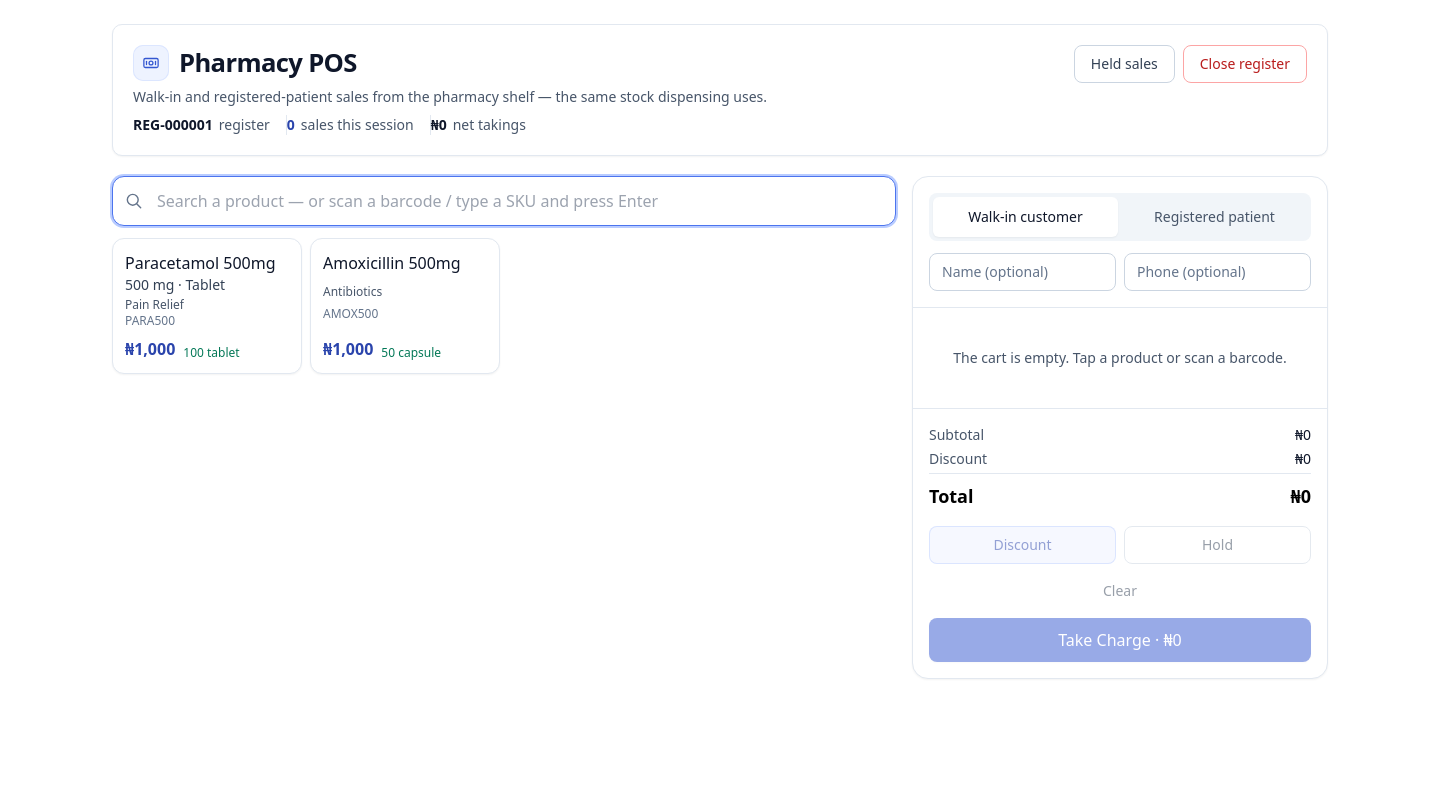
Scenario: discounting several selected items › discounts only the ticked lines
Click the button "Paracetamol 500mg".
click(207, 306)  # box [112,238,302,374]
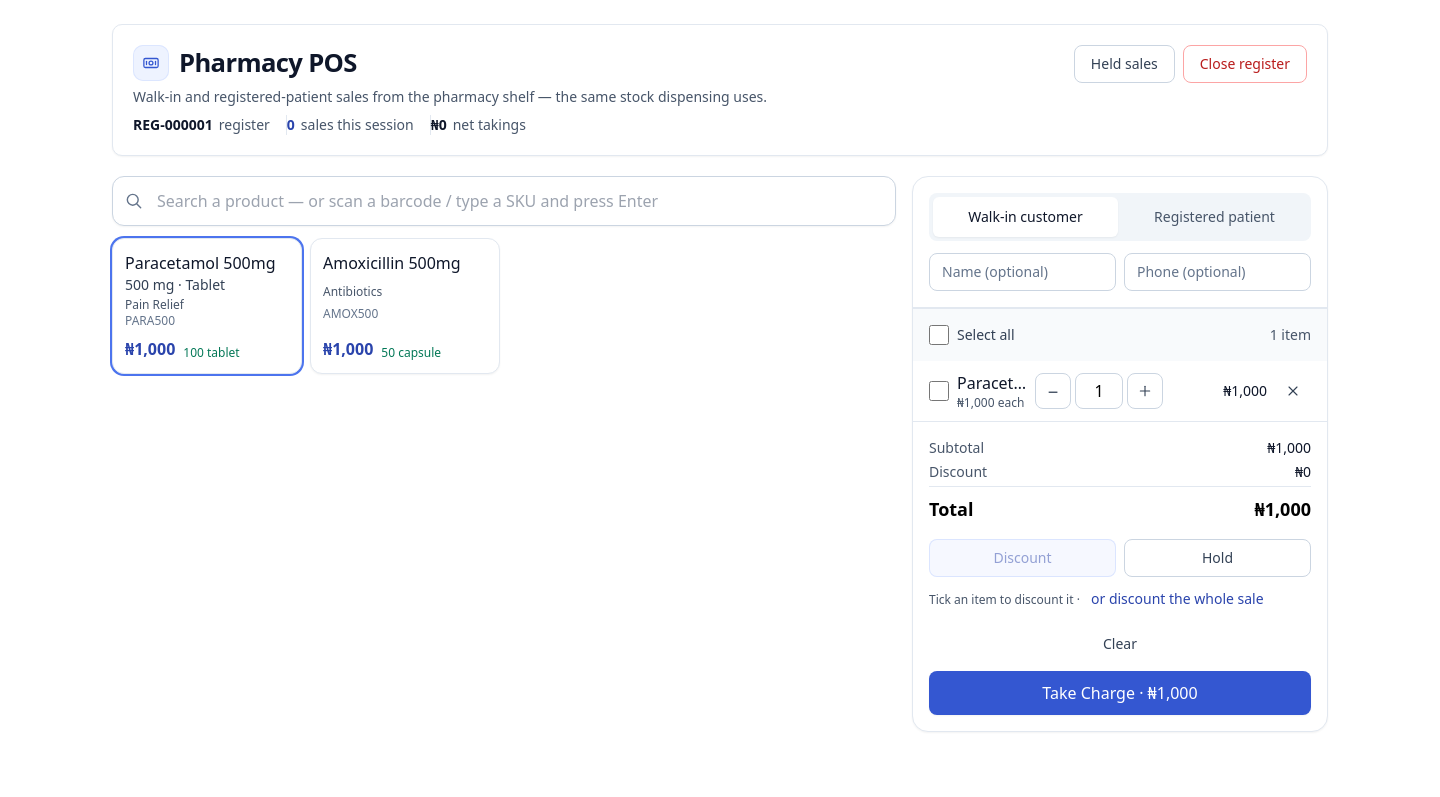
Click the button "Amoxicillin 500mg Antibiotics AMOX500 ₦1,000 50 capsule".
click(405, 306)  # box [310,238,500,374]
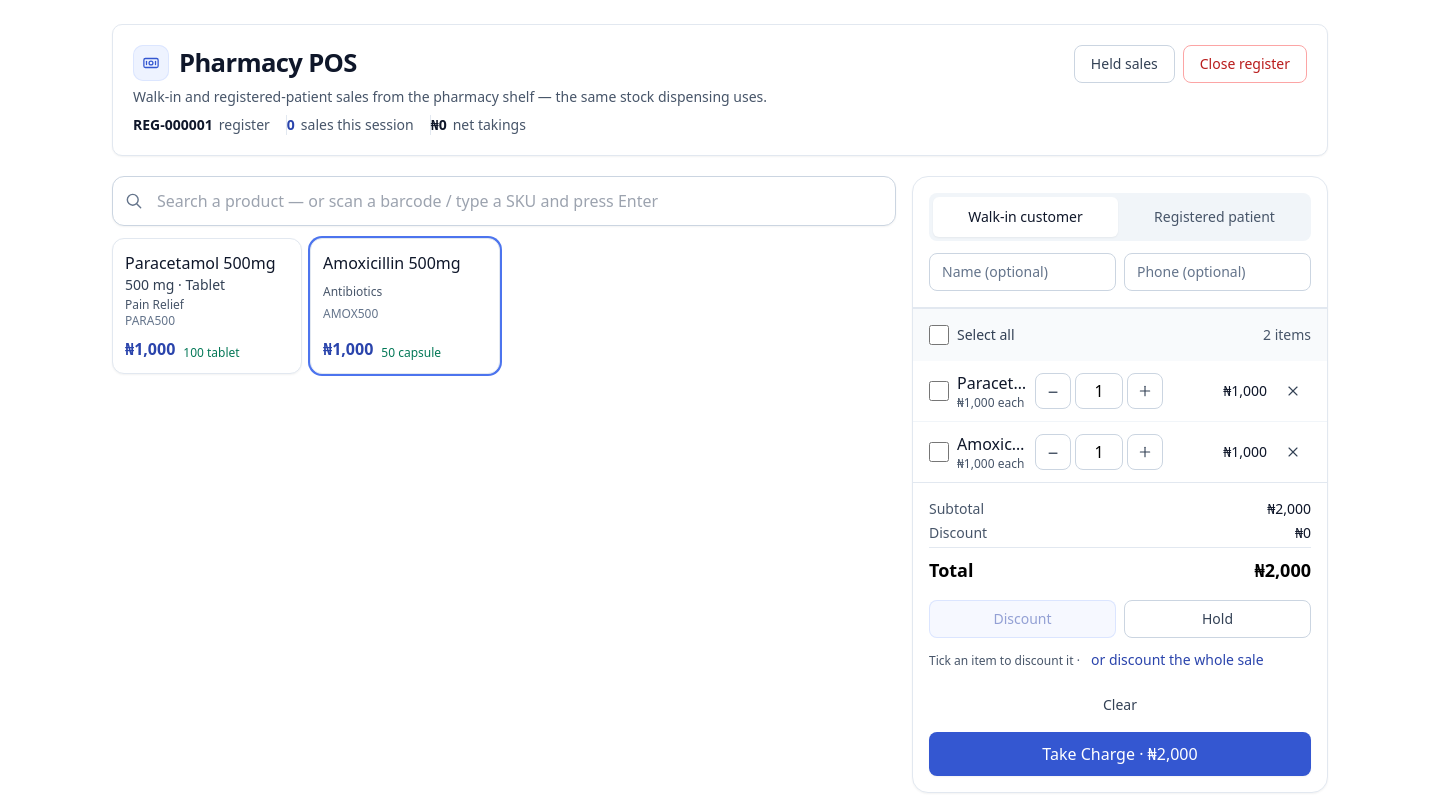
Click the checkbox named "Select Paracetamol 500mg".
click(939, 391)  # box [929,381,949,401]
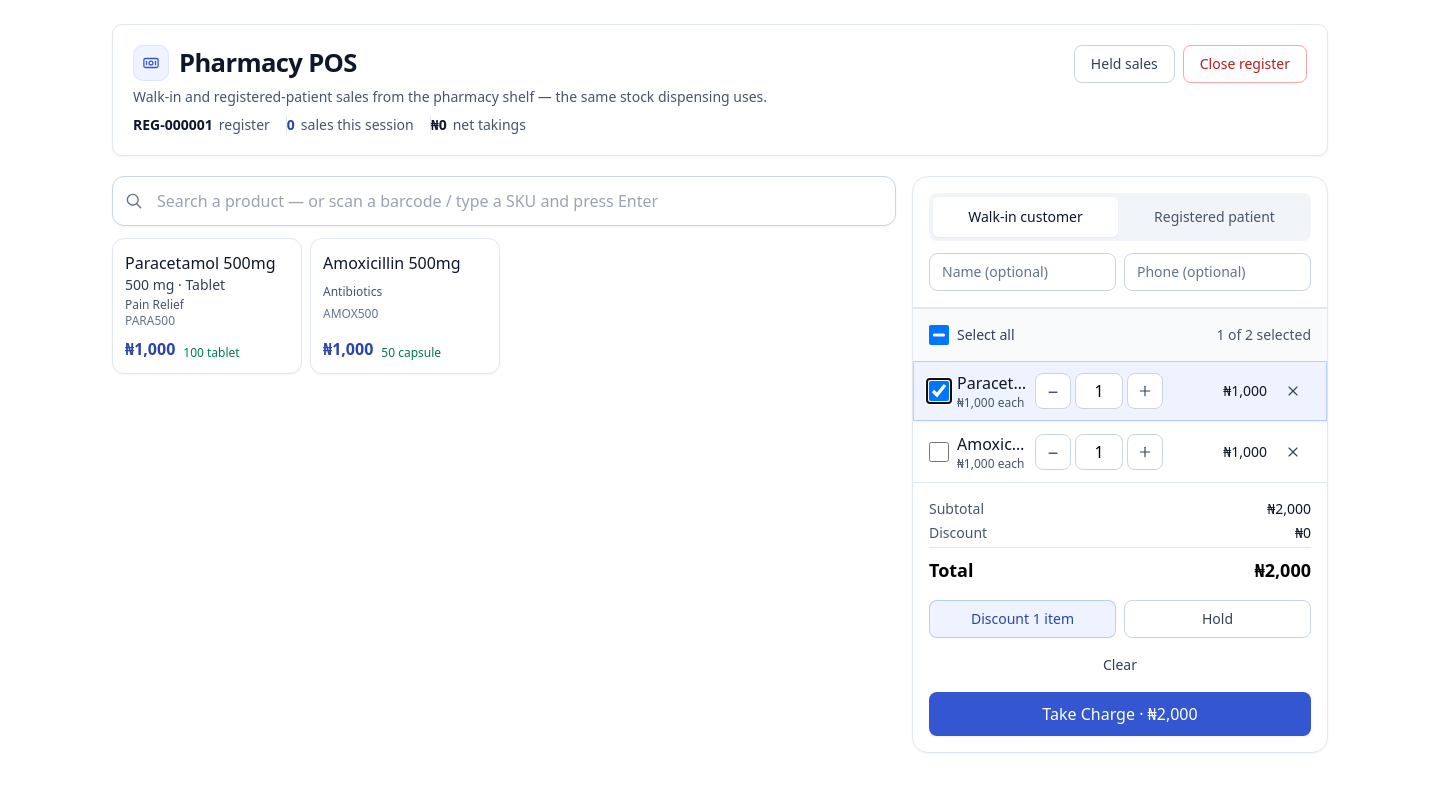
Click the button "Discount 1 item".
click(1022, 619)  # box [929,600,1116,638]
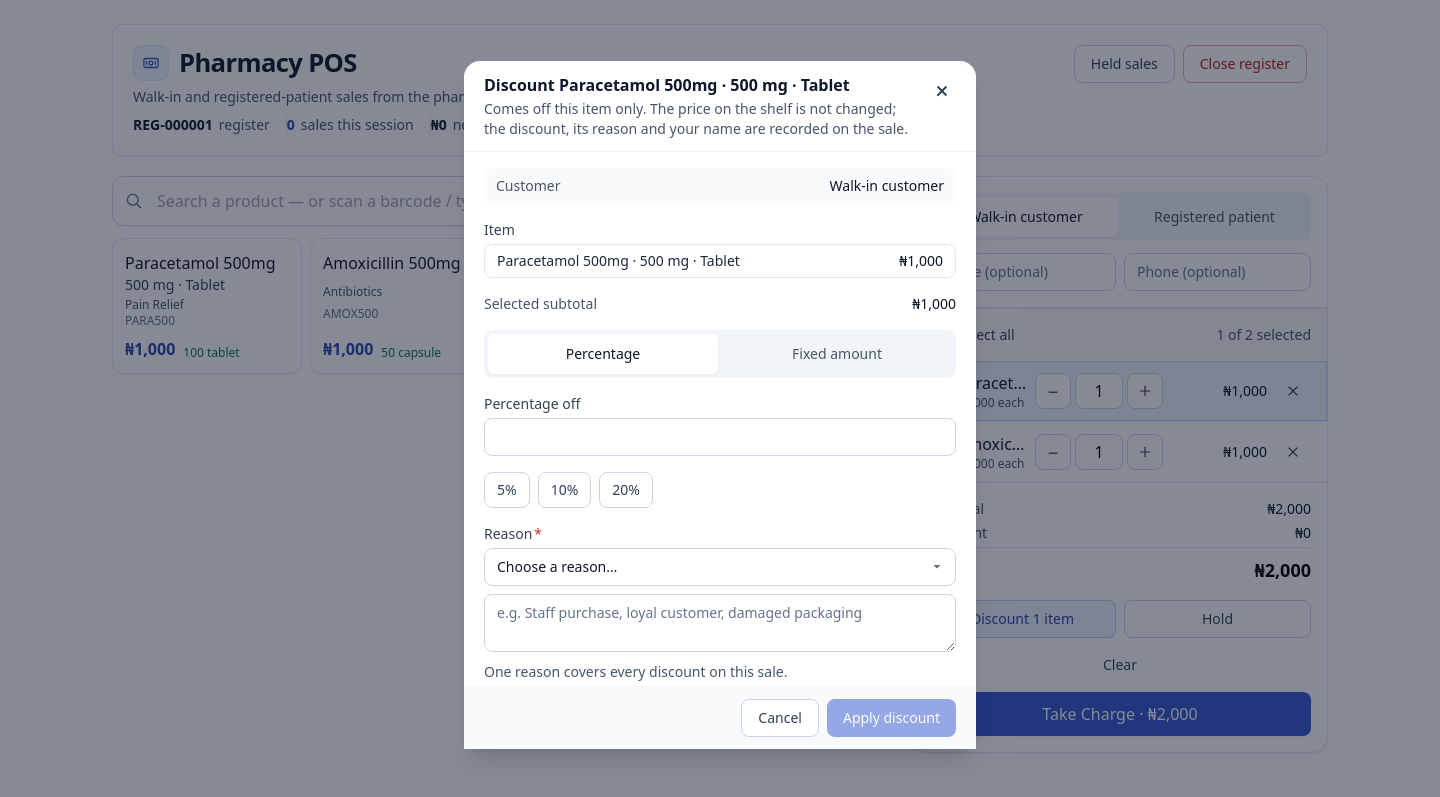
Type "10" into the number field labelled "Percentage off".
click(720, 437); type("10")  # box [484,418,956,456]
Type "Staff discount" into the text box with placeholder "e.g. Staff purchase, loyal customer, damaged packaging".
click(720, 623); type("Staff discount")  # box [484,594,956,652]
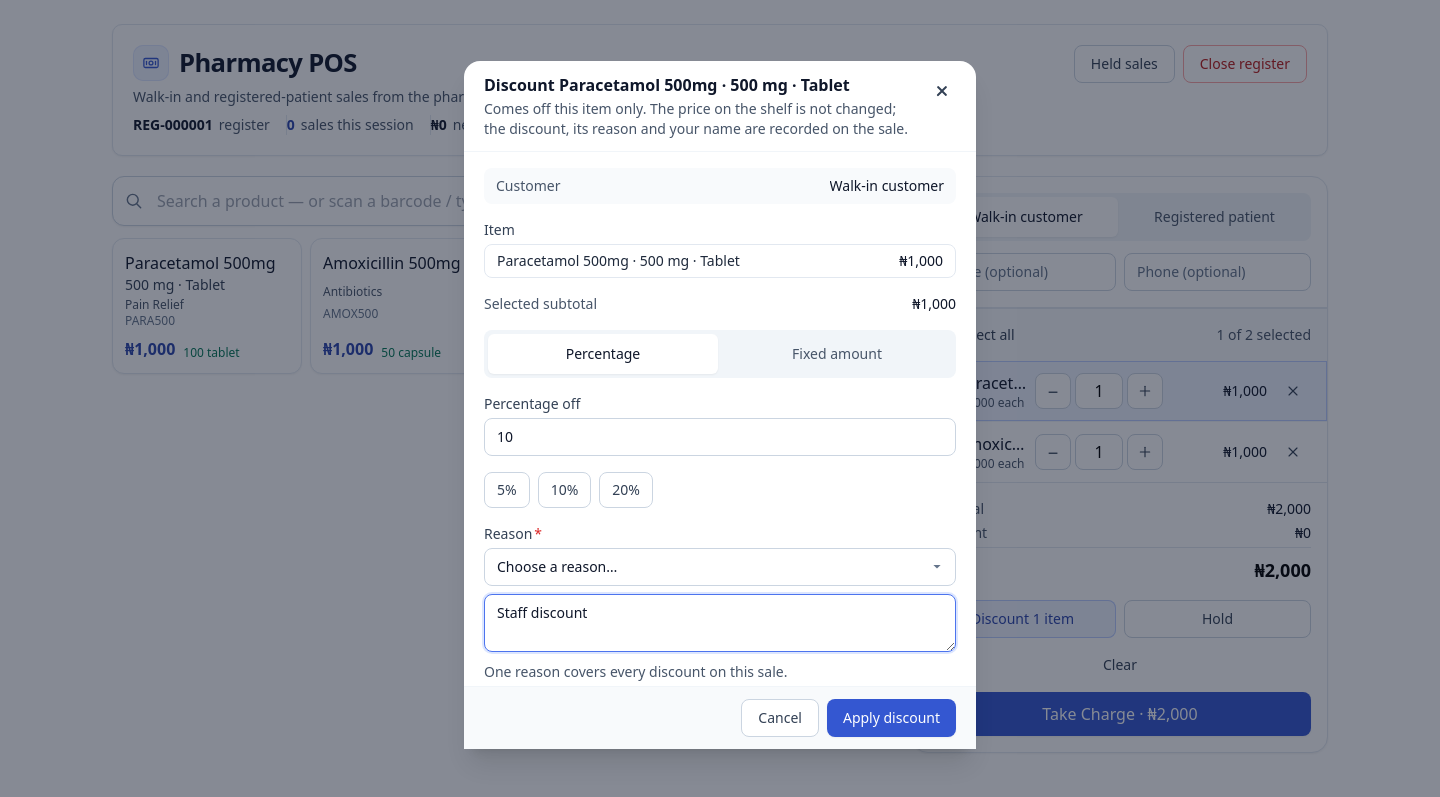
Click the button "Apply discount".
click(892, 718)  # box [827,699,956,737]
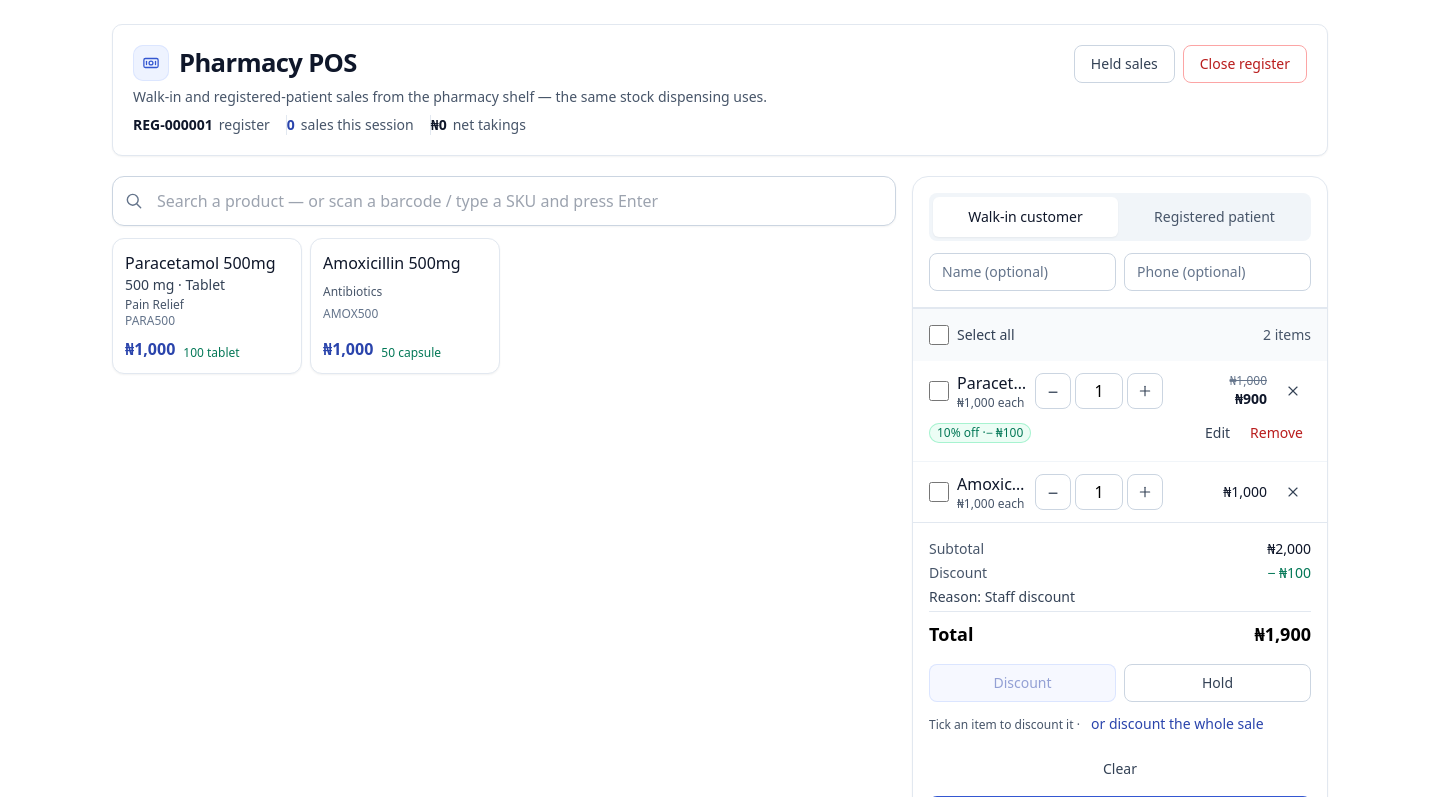
Result: the text "₦1,000" next to "Paracetamol 500mg · 500 mg · Tablet" is shown at [1230,372,1267,389]
Result: the text "₦900" is shown at [1235,389,1267,408]
Result: the text "10% off · − ₦100" is shown once at [929,423,1031,443]
